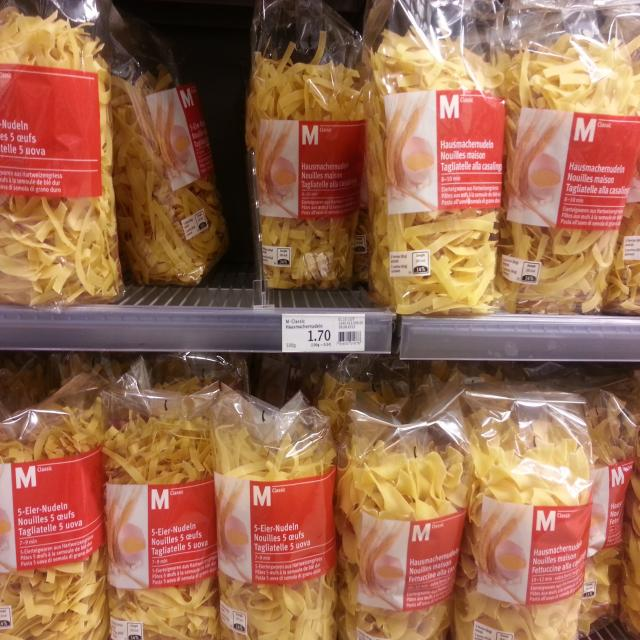Pasta: (367, 1, 507, 316), (503, 0, 640, 317), (0, 6, 127, 312), (447, 378, 591, 640), (246, 0, 374, 289), (338, 386, 470, 640), (108, 7, 227, 285), (207, 383, 334, 640), (105, 378, 226, 640), (0, 385, 111, 640)
